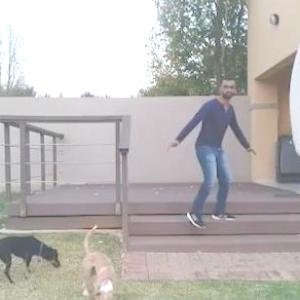land: (176, 77, 248, 235)
